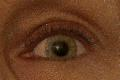eye: (45, 33, 77, 60)
